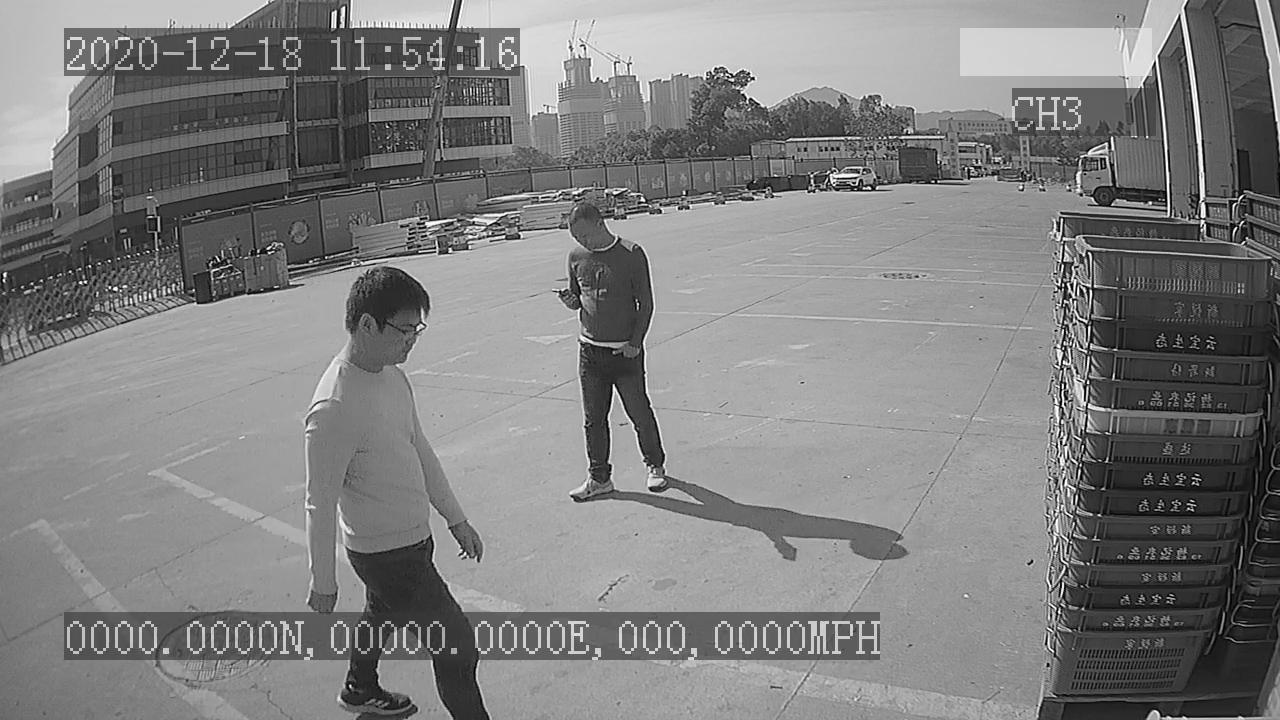person: (542, 195, 674, 508)
